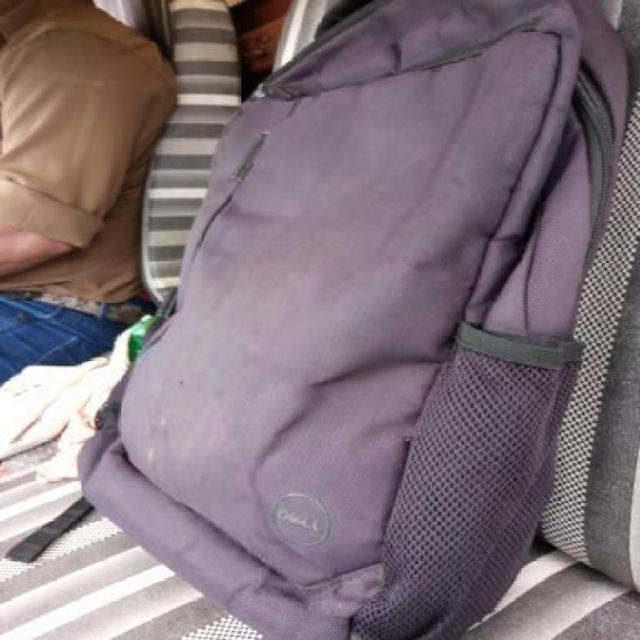backpack: (70, 0, 636, 640)
